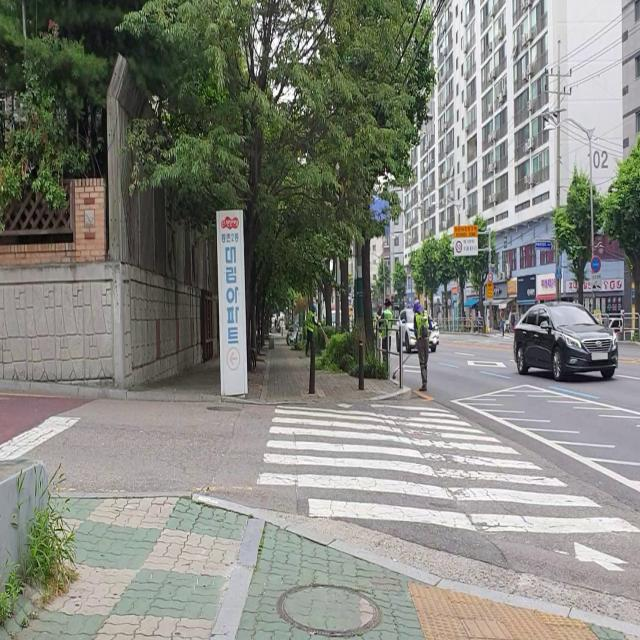횡단보도: (255, 400, 640, 573)
